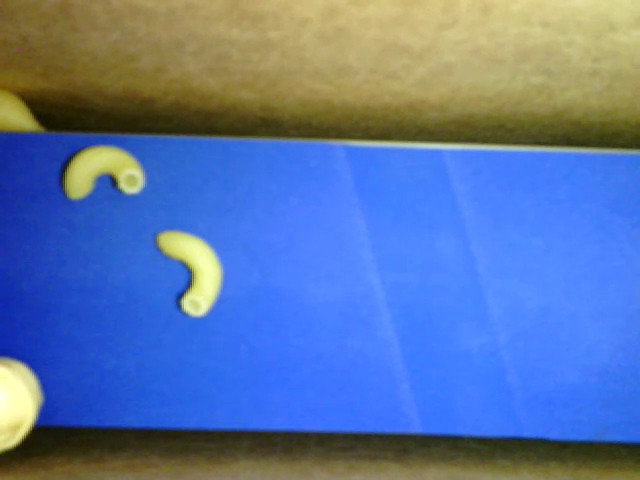elbow: (157, 228, 223, 319), (60, 143, 147, 201)
shell: (1, 91, 50, 134)
tortellini: (1, 356, 45, 451)
